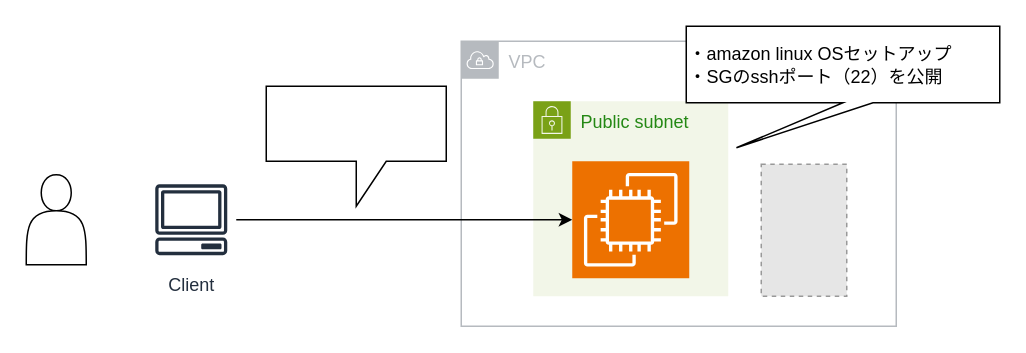
Image size: 1026x353. Some labels were removed from this diagram. Grey dashed boxes stand in for pictures. Each missing label, with the centre of its shape:
"EC2" goes at point 630,219.
"秘密鍵でssh接続" goes at point 355,145.
